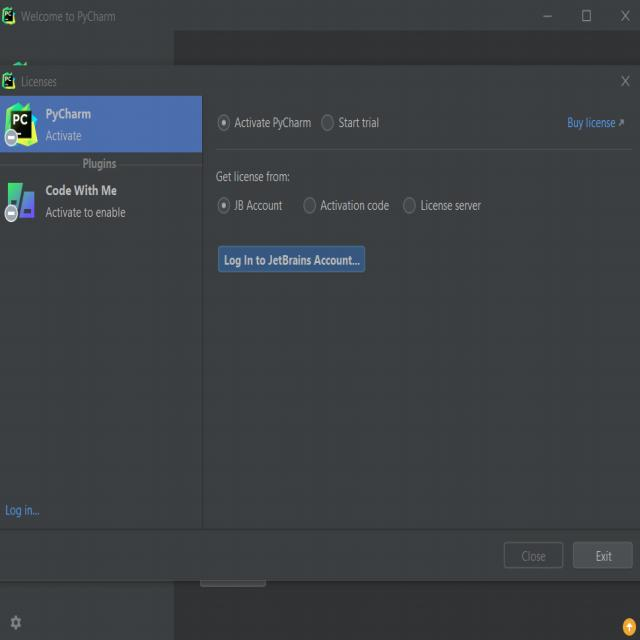button: (1, 174, 202, 232), (0, 96, 202, 152), (218, 247, 366, 274), (504, 543, 563, 568), (574, 545, 634, 568), (613, 3, 637, 31), (619, 612, 640, 640), (575, 4, 598, 29), (537, 2, 559, 28), (7, 610, 26, 638), (618, 70, 634, 93)
field: (303, 195, 316, 217), (402, 196, 416, 216), (216, 197, 230, 214), (321, 114, 334, 132), (218, 113, 230, 131)
